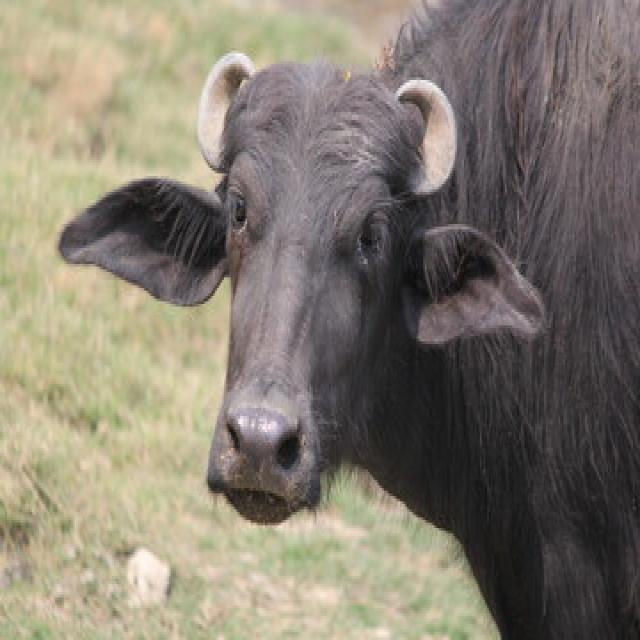Buffalo: (56, 0, 638, 637)
